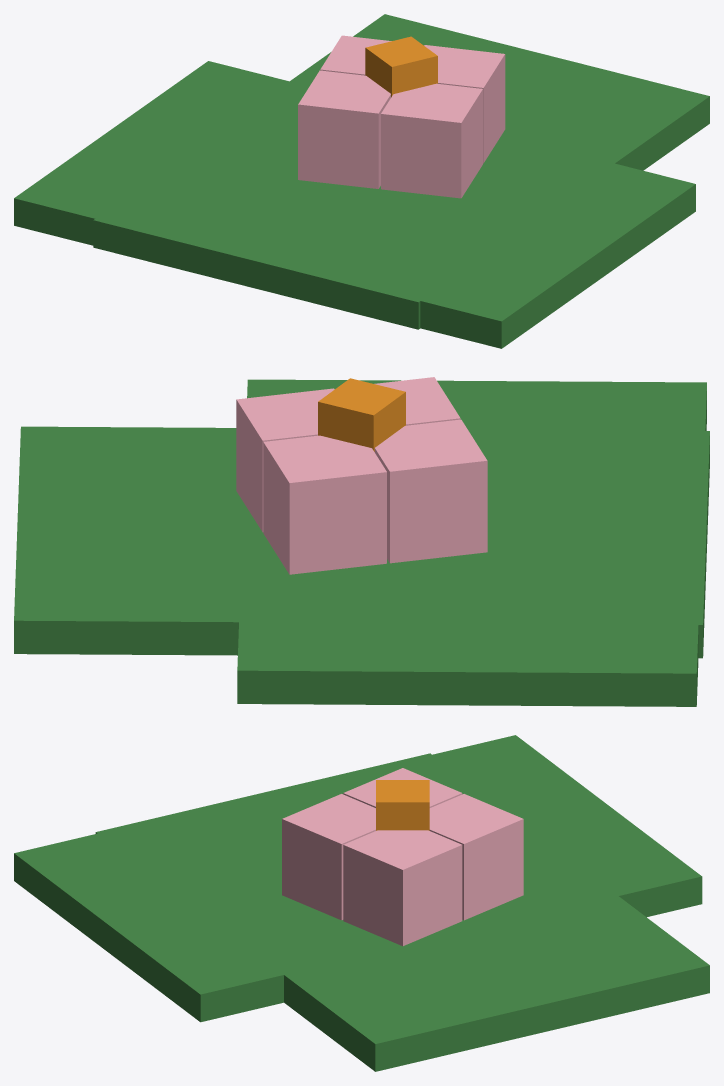
File: C08_lily_pad_flower.obj
The picture shows the model from 3 angles, top to bottom: view 1: azimuth 30°, elevation 25°; view 2: azimuth 150°, elevation 25°; view 3: azimuth 270°, elevation 25°; orthographic projection. The views are drawn at different scales.
Parts seen in each view (by area): view 1: C08_lily_pad_flower; view 2: C08_lily_pad_flower; view 3: C08_lily_pad_flower.
Part boxes in pixels (<box>): C08_lily_pad_flower: <box>14,14,709,348</box>; C08_lily_pad_flower: <box>14,377,709,706</box>; C08_lily_pad_flower: <box>14,735,709,1071</box>.
Bounding box in the file's own units: 0.9551 × 0.195 × 0.9087.
